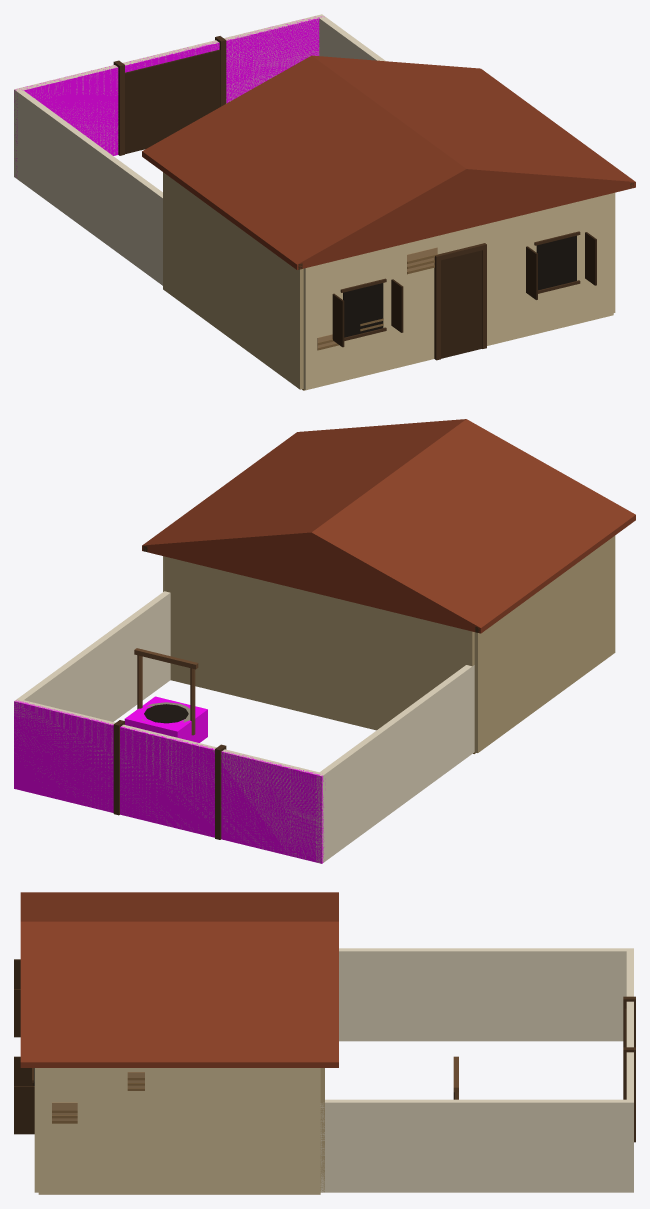
The model's file is barrio-abajo-casa-patio.glb.
The picture shows the model from 3 angles, top to bottom: view 1: azimuth 30°, elevation 25°; view 2: azimuth 150°, elevation 25°; view 3: azimuth 270°, elevation 25°; orthographic projection. The views are drawn at different scales.
Visible parts, largest first — view 1: casa_patio_TejaOscura, casa_patio_Bahareque, casa_patio_Encalado, casa_patio_BahaqueSombra, casa_patio_Puerta, COL_Tapia, casa_patio_Ventana, casa_patio_MaderaOscura, casa_patio_BarroExpuesto, casa_patio_CanaBrava; view 2: casa_patio_TejaOscura, casa_patio_BahaqueSombra, casa_patio_Encalado, COL_Tapia, COL_Pozo, casa_patio_MaderaOscura, casa_patio_Madera, casa_patio_Ventana; view 3: casa_patio_Encalado, casa_patio_TejaOscura, casa_patio_Bahareque, casa_patio_Puerta, casa_patio_MaderaOscura, casa_patio_BarroExpuesto, casa_patio_BahaqueSombra.
Part boxes in pixels (x1,y1,x2,y2): casa_patio_TejaOscura: (142, 55, 635, 269); casa_patio_Bahareque: (303, 192, 615, 390); casa_patio_Encalado: (14, 14, 385, 285); casa_patio_BahaqueSombra: (163, 172, 303, 389); casa_patio_Puerta: (125, 49, 596, 358); COL_Tapia: (14, 16, 321, 177); casa_patio_Ventana: (343, 235, 576, 337); casa_patio_MaderaOscura: (113, 36, 634, 360); casa_patio_BarroExpuesto: (317, 247, 437, 349); casa_patio_CanaBrava: (317, 254, 437, 350); casa_patio_TejaOscura: (142, 419, 635, 633); casa_patio_BahaqueSombra: (164, 535, 615, 752); casa_patio_Encalado: (14, 591, 474, 863); COL_Tapia: (14, 700, 323, 863); COL_Pozo: (124, 696, 207, 742); casa_patio_MaderaOscura: (113, 546, 479, 839); casa_patio_Madera: (134, 648, 198, 735); casa_patio_Ventana: (144, 704, 188, 723); casa_patio_Encalado: (320, 948, 633, 1192); casa_patio_TejaOscura: (20, 892, 338, 1067); casa_patio_Bahareque: (34, 1068, 320, 1194); casa_patio_Puerta: (14, 959, 626, 1134); casa_patio_MaderaOscura: (32, 996, 635, 1142); casa_patio_BarroExpuesto: (52, 1072, 144, 1120); casa_patio_BahaqueSombra: (320, 1068, 324, 1192).
Size of the model in its own units: 7.7 by 4.14 by 11.91.
